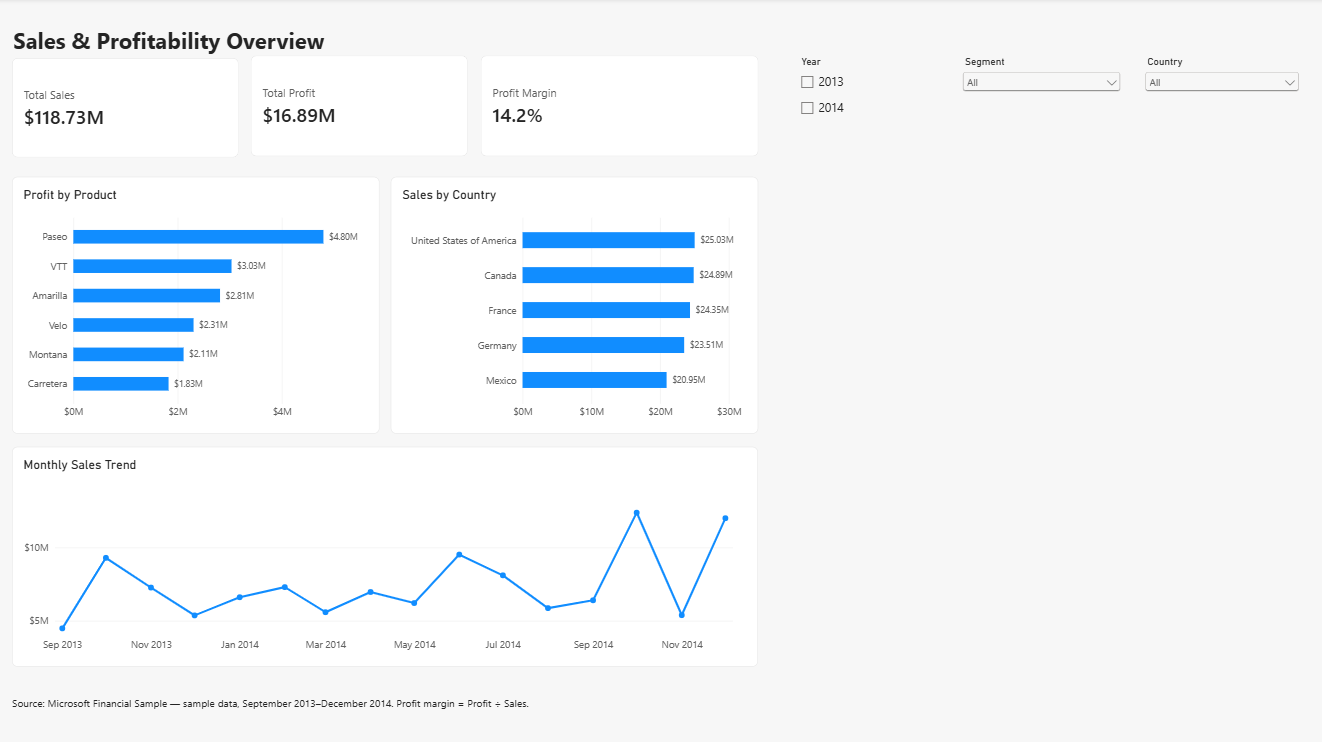

The page's visual inventory and layout, read from the dashboard file:
{"tool":"powerbi","page":{"name":"Sales Overview","canvas":[1920,1080],"ordinal":0},"visuals":[{"type":"cardVisual","fields":{"Data":["Sales.Total Sales"]},"box":[22,86,328,144],"z":0},{"type":"cardVisual","fields":{"Data":["Sales.Total Profit"]},"box":[368,84,314,146],"z":1000},{"type":"cardVisual","fields":{"Data":["Sales.Profit Margin"]},"box":[700,84,402,146],"z":2000},{"type":"clusteredBarChart","title":"Sales by Country","fields":{"Category":["Sales.Country"],"Y":["Sales.Total Sales"]},"box":[570,258,532,372],"z":3000},{"type":"clusteredBarChart","title":"Profit by Product","fields":{"Category":["Sales.Product"],"Y":["Sales.Total Profit"]},"box":[22,258,532,372],"z":4000},{"type":"slicer","fields":{"Values":["Date Table.Year"]},"box":[1156,84,238.3,105],"z":5000},{"type":"lineChart","title":"Monthly Sales Trend","fields":{"Category":["Date Table.Month Start"],"Y":["Sales.Total Sales"]},"box":[22,650,1080,318],"z":6000},{"type":"slicer","fields":{"Values":["Sales.Country"]},"box":[1658,84,232,474],"z":7000},{"type":"textbox","box":[23.3,40,476.7,43.3],"z":8000},{"type":"slicer","fields":{"Values":["Sales.Segment"]},"box":[1394,84,238,228],"z":9000},{"type":"textbox","box":[22.5,1010,780,35],"z":10000}]}

Visuals, with their boxes in screenshot pixels (x1, y1, x2, y2), scaled from the page's 1920x1080 canvas onto the 1322x742 screenshot:
cardVisual - Sales.Total Sales: {"left": 15, "top": 59, "right": 241, "bottom": 158}
cardVisual - Sales.Total Profit: {"left": 253, "top": 58, "right": 470, "bottom": 158}
cardVisual - Sales.Profit Margin: {"left": 482, "top": 58, "right": 759, "bottom": 158}
"Sales by Country" clusteredBarChart: {"left": 392, "top": 177, "right": 759, "bottom": 433}
"Profit by Product" clusteredBarChart: {"left": 15, "top": 177, "right": 381, "bottom": 433}
slicer - Date Table.Year: {"left": 796, "top": 58, "right": 960, "bottom": 130}
"Monthly Sales Trend" lineChart: {"left": 15, "top": 447, "right": 759, "bottom": 665}
slicer - Sales.Country: {"left": 1142, "top": 58, "right": 1301, "bottom": 383}
textbox: {"left": 16, "top": 27, "right": 344, "bottom": 57}
slicer - Sales.Segment: {"left": 960, "top": 58, "right": 1124, "bottom": 214}
textbox: {"left": 15, "top": 694, "right": 553, "bottom": 718}
